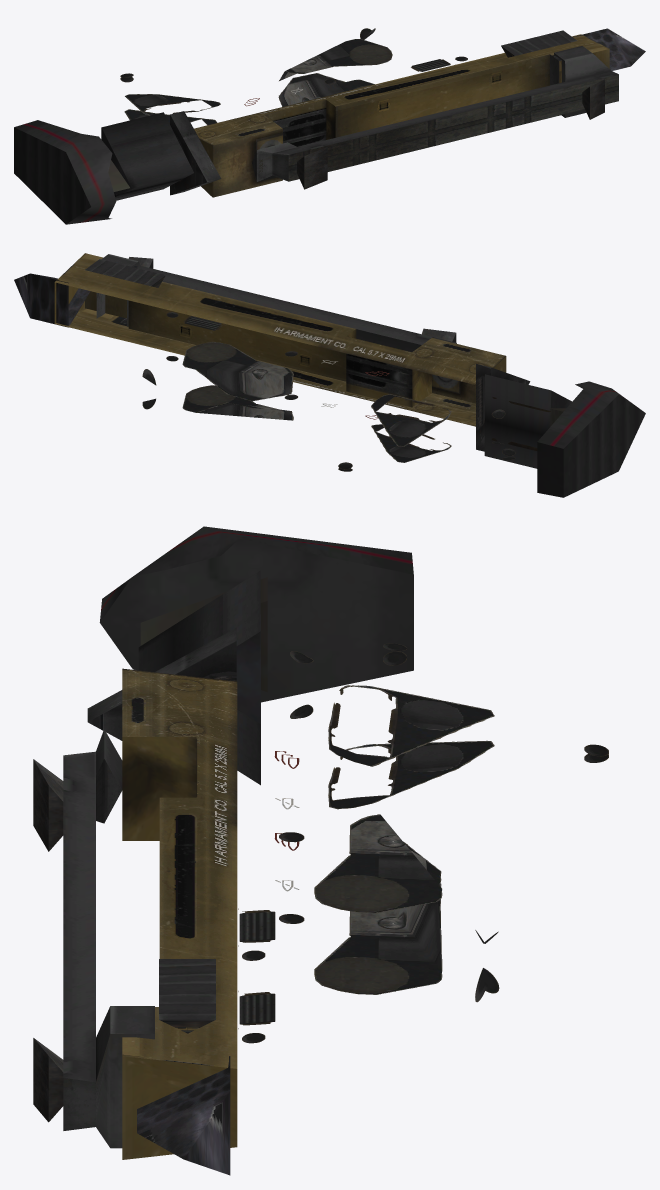
Rendered from t6_wpn_smg_pdw57_world_LOD2.obj.
The picture shows the model from 3 angles, top to bottom: view 1: azimuth 30°, elevation 25°; view 2: azimuth 150°, elevation 25°; view 3: azimuth 270°, elevation 25°; orthographic projection. The views are drawn at different scales.
Parts seen in each view (by area): view 1: mtl_t6_wpn_smg_pdw57_camo2, mtl_t6_wpn_smg_pdw57_camo1, mtl_t6_wpn_smg_pdw57_camo3; view 2: mtl_t6_wpn_smg_pdw57_camo1, mtl_t6_wpn_smg_pdw57_camo2, mtl_t6_wpn_smg_pdw57_camo3; view 3: mtl_t6_wpn_smg_pdw57_camo2, mtl_t6_wpn_smg_pdw57_camo1, mtl_t6_wpn_smg_pdw57_camo3.
Boxes of the visible parts, left/top/right/bottom form: mtl_t6_wpn_smg_pdw57_camo2: left=14, top=29, right=645, bottom=224; mtl_t6_wpn_smg_pdw57_camo1: left=194, top=34, right=609, bottom=197; mtl_t6_wpn_smg_pdw57_camo3: left=120, top=28, right=630, bottom=194; mtl_t6_wpn_smg_pdw57_camo1: left=54, top=253, right=506, bottom=426; mtl_t6_wpn_smg_pdw57_camo2: left=14, top=257, right=645, bottom=497; mtl_t6_wpn_smg_pdw57_camo3: left=30, top=254, right=550, bottom=471; mtl_t6_wpn_smg_pdw57_camo2: left=33, top=526, right=413, bottom=1175; mtl_t6_wpn_smg_pdw57_camo1: left=122, top=668, right=237, bottom=1159; mtl_t6_wpn_smg_pdw57_camo3: left=87, top=628, right=608, bottom=1132.
Bounding box in the file's own units: 50.1 × 7.01 × 22.39.
